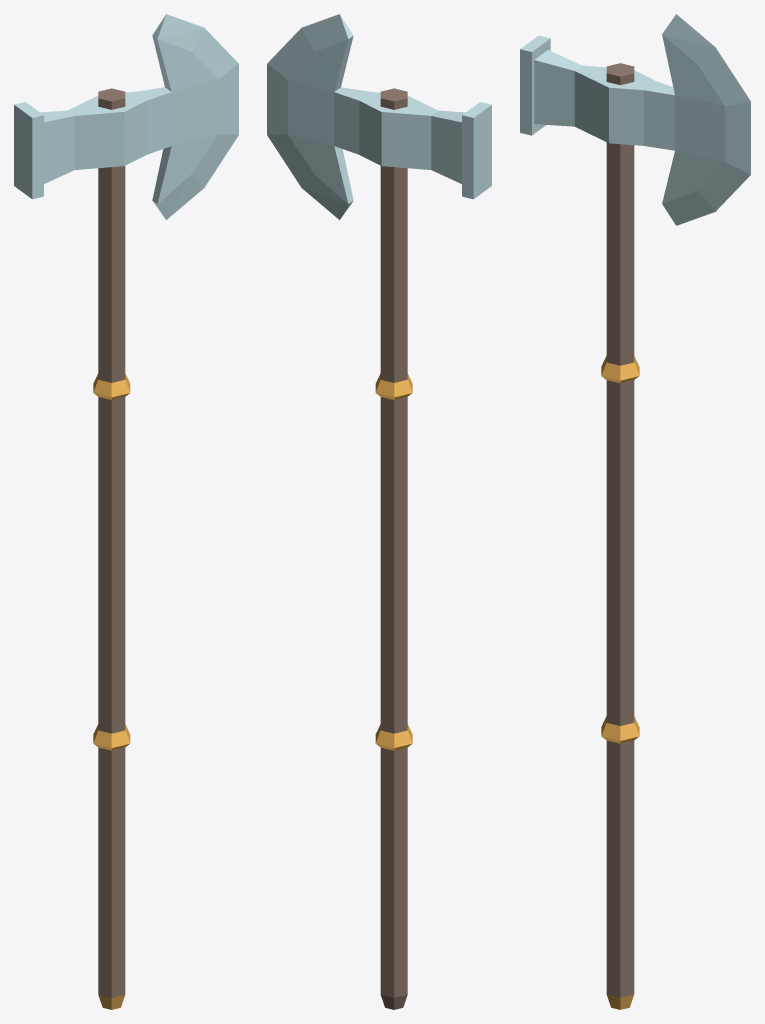
File: axe.glb
3 renders of one model, left to right at view 1: azimuth 30°, elevation 25°; view 2: azimuth 150°, elevation 25°; view 3: azimuth 330°, elevation 25°, orthographic. The views are drawn at different scales.
Visible parts, largest first — view 1: ax; view 2: ax; view 3: ax.
Part boxes in pixels (box(x1,y1,x2,y2)): ax: box(14, 14, 238, 1009); ax: box(267, 14, 491, 1009); ax: box(520, 14, 750, 1009).
Size of the model in its own units: 0.5041 by 2.19 by 0.0967.
1 material, 1 textured.
